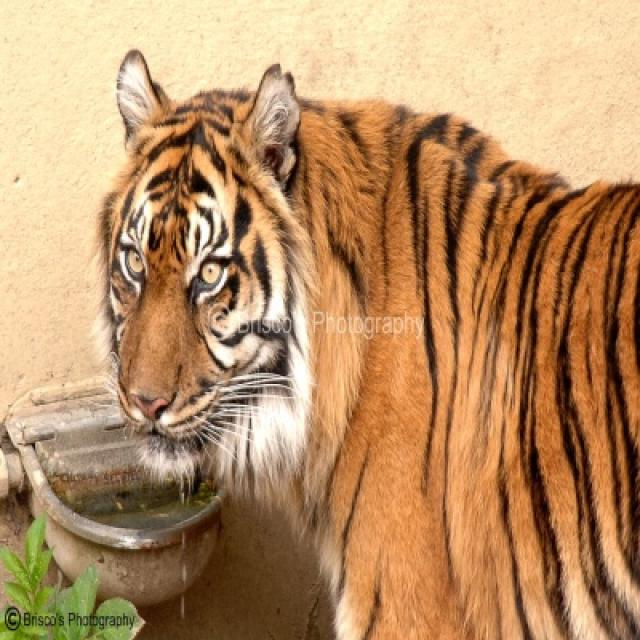Tiger: (97, 45, 638, 638)
